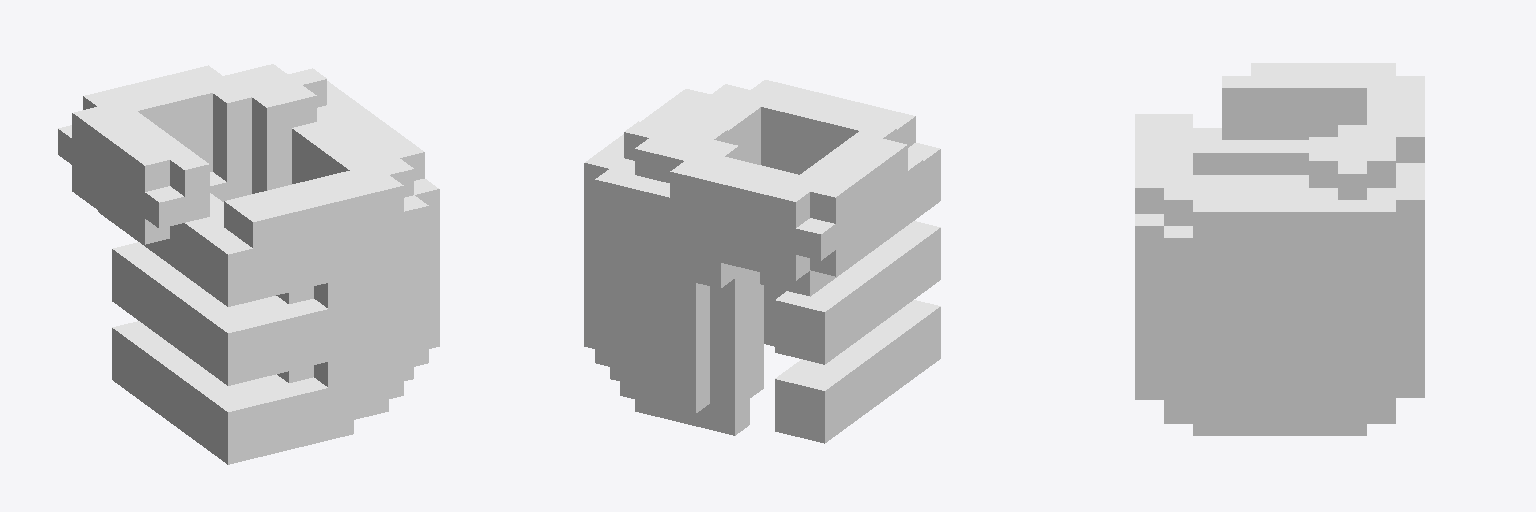
File: Garlic_R_Hand.obj
3 views of the same model, side by side, from view 1: azimuth 30°, elevation 25°; view 2: azimuth 150°, elevation 25°; view 3: azimuth 270°, elevation 25° (orthographic).
Parts seen in each view (by area): view 1: object 1; view 2: object 1; view 3: object 1.
Part boxes in pixels (x1,y1,x2,y2): object 1: (58,64,439,464); object 1: (584,80,940,443); object 1: (1135,63,1424,435).
Size of the model in its own units: 1 by 1 by 1.